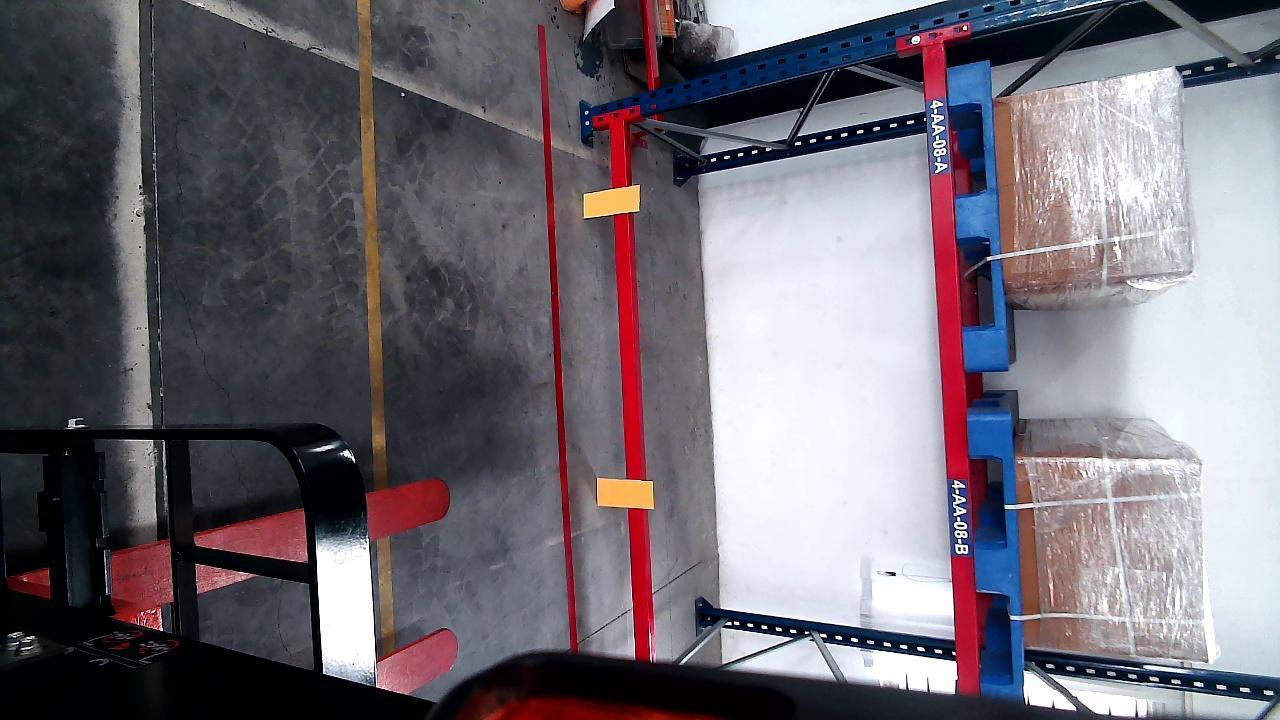h_rack: (923, 43, 980, 689), (610, 109, 651, 659)
orange_strip: (584, 184, 640, 218), (598, 477, 653, 508)
red_line: (539, 19, 580, 660)
small_pallet: (950, 61, 1004, 369), (971, 419, 1025, 684)
yellow_line: (359, 6, 387, 443)
